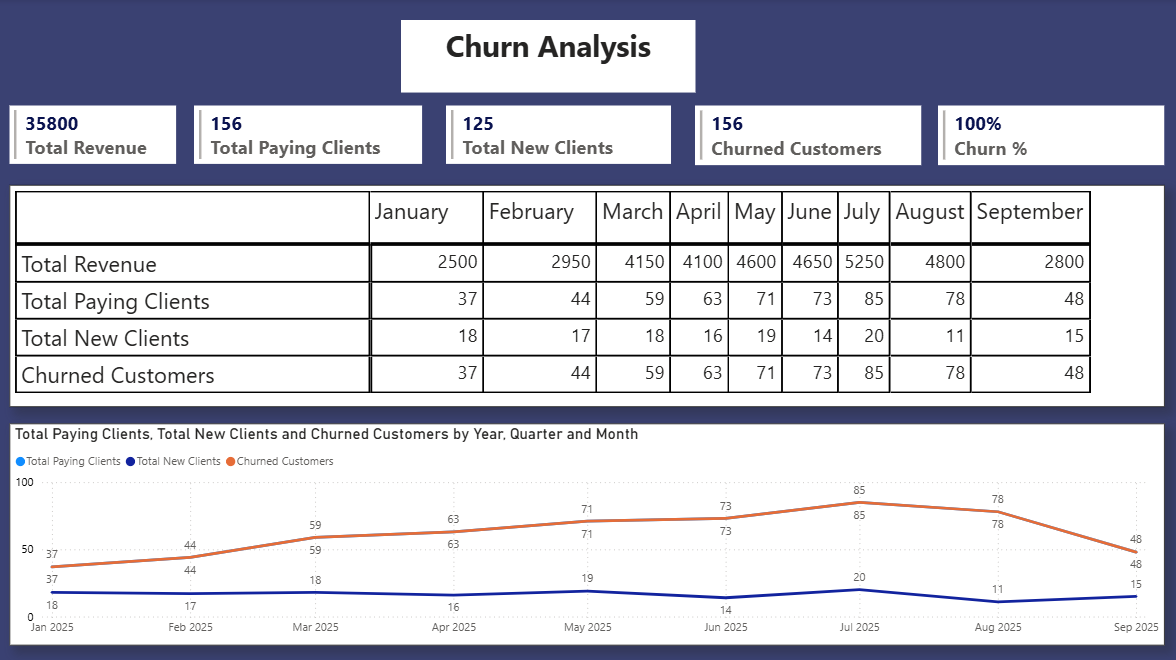

What the dashboard file says about the page in this screenshot:
{"tool":"powerbi","page":{"name":"Page 1","canvas":[1280,720],"ordinal":0},"visuals":[{"type":"pivotTable","fields":{"Values":["_Measures.Total Revenue","_Measures.Total Paying Clients","_Measures.Total New Clients","_Measures.Churned Customers"],"Columns":["Master Stripe Data.Created date (UTC).Variation.Date Hierarchy.Month"]},"box":[14,201.8,1252.6,240.4],"z":0},{"type":"multiRowCard","fields":{"Values":["_Measures.Total Revenue"]},"box":[14,115.8,180.7,63.2],"z":1000},{"type":"multiRowCard","fields":{"Values":["_Measures.Total Paying Clients"]},"box":[214,115.8,247.4,63.2],"z":2000},{"type":"multiRowCard","fields":{"Values":["_Measures.Total New Clients"]},"box":[487.7,115.8,243.9,63.2],"z":3000},{"type":"multiRowCard","fields":{"Values":["_Measures.Churned Customers"]},"box":[757.9,115.8,245.6,64.9],"z":4000},{"type":"multiRowCard","fields":{"Values":["_Measures.Churn %"]},"box":[1021.1,115.8,245.6,64.9],"z":5000},{"type":"lineChart","fields":{"Category":["Master Stripe Data.Created date (UTC).Variation.Date Hierarchy.Year","Master Stripe Data.Created date (UTC).Variation.Date Hierarchy.Quarter","Master Stripe Data.Created date (UTC).Variation.Date Hierarchy.Month"],"Y":["_Measures.Total Paying Clients","_Measures.Total New Clients","_Measures.Churned Customers"]},"box":[14,459.6,1252.6,240.4],"z":6000},{"type":"textbox","box":[438.6,22.8,319.3,78.9],"z":6001}]}

Visuals, with their boxes in screenshot pixels (x1, y1, x2, y2), scaled from the page's 1280x720 canvas onto the 1176x660 screenshot:
pivotTable - _Measures.Total Revenue x _Measures.Total Paying Clients: <bbox>13, 185, 1164, 405</bbox>
multiRowCard - _Measures.Total Revenue: <bbox>13, 106, 179, 164</bbox>
multiRowCard - _Measures.Total Paying Clients: <bbox>197, 106, 424, 164</bbox>
multiRowCard - _Measures.Total New Clients: <bbox>448, 106, 672, 164</bbox>
multiRowCard - _Measures.Churned Customers: <bbox>696, 106, 922, 166</bbox>
multiRowCard - _Measures.Churn %: <bbox>938, 106, 1164, 166</bbox>
lineChart - Master Stripe Data.Created date (UTC).Variation.Date Hierarchy.Year x Master Stripe Data.Created date (UTC).Variation.Date Hierarchy.Quarter: <bbox>13, 421, 1164, 642</bbox>
textbox: <bbox>403, 21, 696, 93</bbox>
